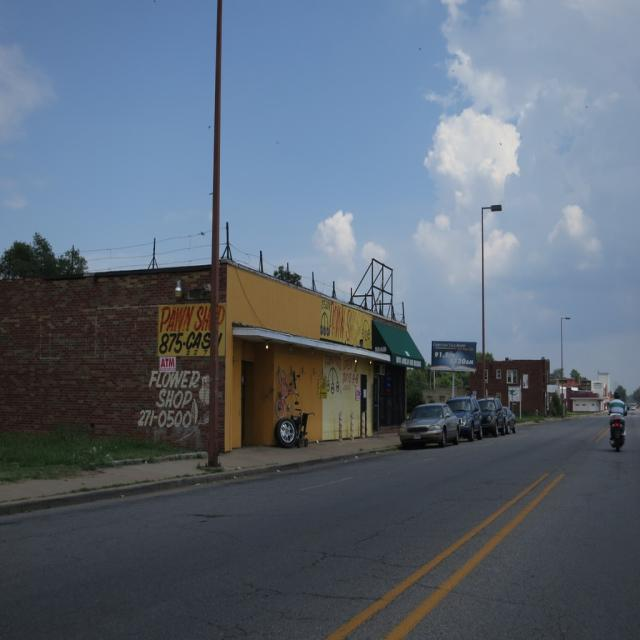car: (397, 400, 460, 447)
